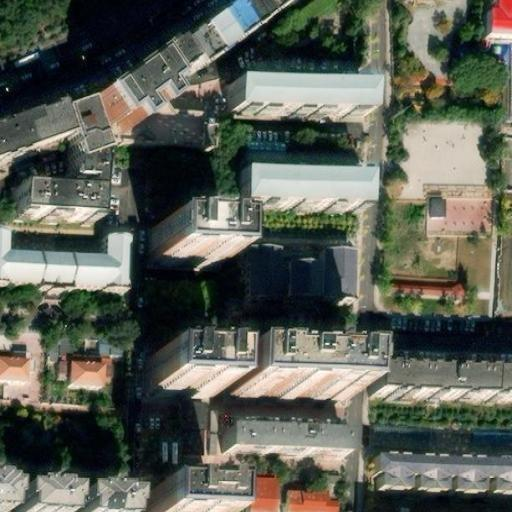building: (365, 445, 512, 498), (172, 0, 275, 65), (229, 72, 364, 109), (89, 69, 159, 140), (235, 168, 361, 207), (225, 358, 345, 397), (221, 421, 341, 460), (56, 110, 99, 193), (369, 374, 484, 403), (425, 194, 493, 235), (149, 222, 219, 259), (144, 355, 213, 392), (18, 190, 97, 221), (249, 253, 284, 308), (315, 256, 349, 310), (148, 41, 190, 84), (281, 270, 316, 309), (274, 492, 335, 512), (138, 496, 213, 512), (5, 492, 60, 512), (64, 363, 103, 391), (498, 47, 512, 122), (66, 494, 120, 512), (245, 485, 277, 512), (283, 247, 317, 271)
